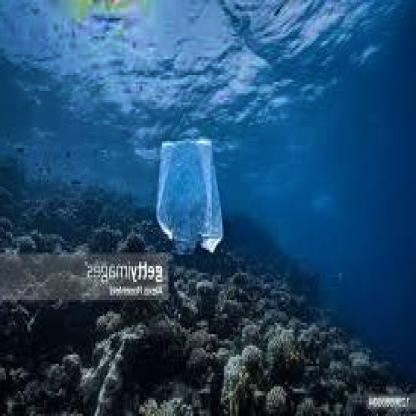pbag: (154, 138, 223, 254)
